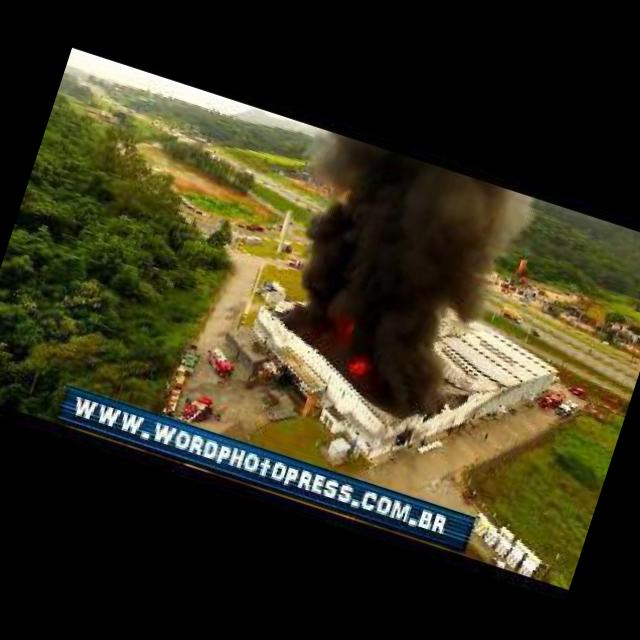fire: (344, 354, 374, 382)
smoke: (254, 133, 531, 427)
